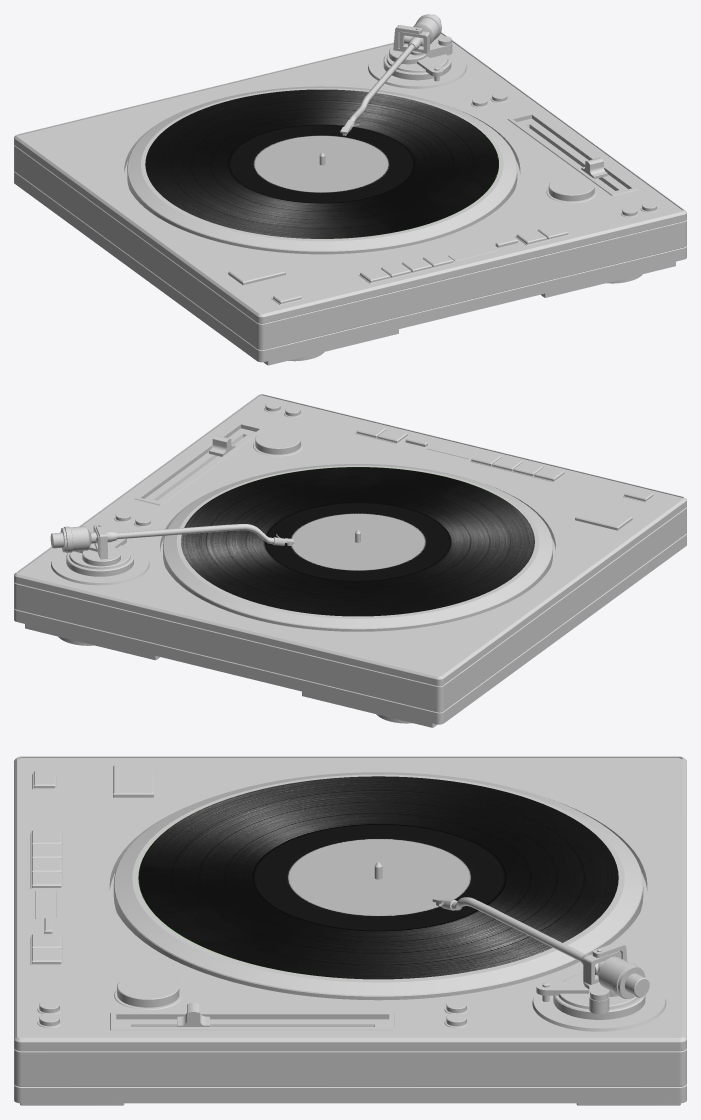
The model's file is DJ_Skybox_comp.glb.
3 renders of one model, top to bottom at view 1: azimuth 30°, elevation 25°; view 2: azimuth 150°, elevation 25°; view 3: azimuth 270°, elevation 25°, orthographic. The views are drawn at different scales.
Visible parts, largest first — view 1: DJ_Pan, DJ_AnNiu.008, DJ_AnNiu.003, DJ_AnNiu.000, DJ_AnNiu.004, DJ_AnNiu.001, DJ_AnNiu.002, DJ_AnNiu.005, DJ_AnNiu.007, DJ_AnNiu.006; view 2: DJ_AnNiu.008, DJ_Pan, DJ_AnNiu.003, DJ_AnNiu.000, DJ_AnNiu.004, DJ_AnNiu.002, DJ_AnNiu.001, DJ_AnNiu.007, DJ_AnNiu.005, DJ_AnNiu.006; view 3: DJ_Pan, DJ_AnNiu.008, DJ_AnNiu.003, DJ_AnNiu.000, DJ_AnNiu.002, DJ_AnNiu.001, DJ_AnNiu.004, DJ_AnNiu.007, DJ_AnNiu.005, DJ_AnNiu.006.
Part boxes in pixels (<box>): DJ_Pan: <box>145,89,498,238</box>; DJ_AnNiu.008: <box>14,32,665,308</box>; DJ_AnNiu.003: <box>14,145,686,350</box>; DJ_AnNiu.000: <box>127,86,517,254</box>; DJ_AnNiu.004: <box>14,171,686,365</box>; DJ_AnNiu.001: <box>238,196,686,323</box>; DJ_AnNiu.002: <box>228,49,658,305</box>; DJ_AnNiu.005: <box>383,36,452,81</box>; DJ_AnNiu.007: <box>340,14,441,135</box>; DJ_AnNiu.006: <box>389,25,429,64</box>; DJ_AnNiu.008: <box>14,408,667,686</box>; DJ_Pan: <box>181,467,534,616</box>; DJ_AnNiu.003: <box>14,507,686,712</box>; DJ_AnNiu.000: <box>163,464,552,631</box>; DJ_AnNiu.004: <box>14,533,686,727</box>; DJ_AnNiu.002: <box>51,402,654,585</box>; DJ_AnNiu.001: <box>241,394,686,520</box>; DJ_AnNiu.007: <box>50,524,294,552</box>; DJ_AnNiu.005: <box>66,538,133,576</box>; DJ_AnNiu.006: <box>82,524,120,566</box>; DJ_Pan: <box>138,776,618,979</box>; DJ_AnNiu.008: <box>71,756,686,1051</box>; DJ_AnNiu.003: <box>14,1048,686,1086</box>; DJ_AnNiu.000: <box>113,772,643,1000</box>; DJ_AnNiu.002: <box>30,765,666,1031</box>; DJ_AnNiu.001: <box>14,756,70,1051</box>; DJ_AnNiu.004: <box>14,1084,686,1105</box>; DJ_AnNiu.007: <box>432,896,649,998</box>; DJ_AnNiu.005: <box>536,973,645,1019</box>; DJ_AnNiu.006: <box>583,942,627,996</box>.
Size of what is drawn, in the model's own units: 0.1635 by 0.0363 by 0.1635.
3 materials, 2 textured.
